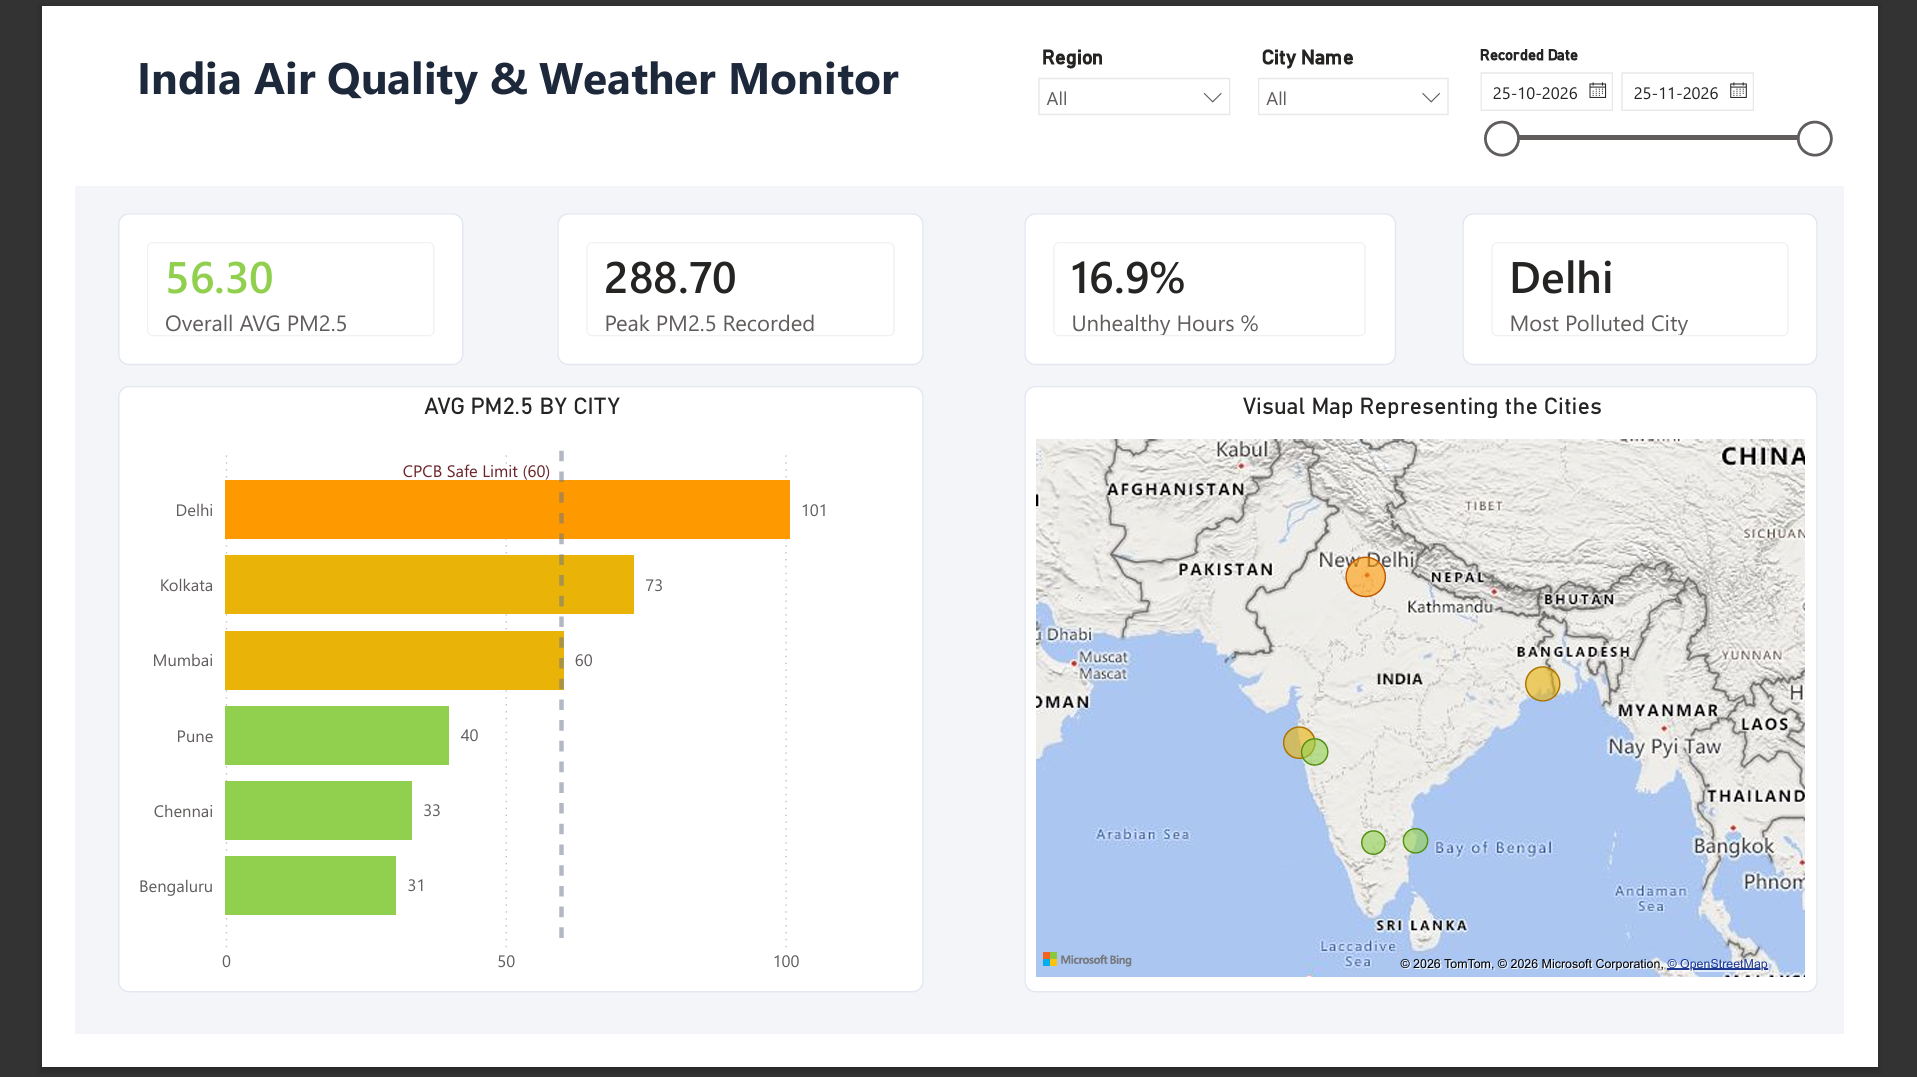

This screenshot's page, from the dashboard's own definition file:
{"tool":"powerbi","page":{"name":"Executive Overview","canvas":[1280,720],"ordinal":0},"visuals":[{"type":"textbox","box":[0,0,1280,105.7],"z":0},{"type":"slicer","fields":{"Values":["dim_city.region"]},"box":[687.1,0,158.6,105.7],"z":1000},{"type":"slicer","fields":{"Values":["dim_city.city_name"]},"box":[845.7,0,158.6,105.7],"z":2000},{"type":"slicer","title":"sss","fields":{"Values":["vw_daily_city_aqi.recorded_date"]},"box":[1004.3,0,275.7,105.7],"z":3000},{"type":"cardVisual","fields":{"Data":["_Measures.Overall AVG PM2.5"]},"box":[31.4,125.7,250,110],"z":4000},{"type":"cardVisual","fields":{"Data":["_Measures.Peak PM2.5 Recorded"]},"box":[348.6,125.7,265.7,110],"z":5000},{"type":"cardVisual","fields":{"Data":["_Measures.Unhealthy Hours %"]},"box":[687.1,125.7,268.6,110],"z":6000},{"type":"cardVisual","fields":{"Data":["_Measures.Most Polluted City"]},"box":[1004.3,125.7,257.1,110],"z":7000},{"type":"clusteredBarChart","title":"AVG PM2.5 BY CITY","fields":{"Category":["dim_city.city_name"],"Y":["_Measures.Overall AVG PM2.5"]},"box":[31.4,251.4,582.9,438.6],"z":8000},{"type":"map","title":"Visual Map Representing the Cities","fields":{"Y":["dim_city.latitude"],"X":["dim_city.longitude"],"Size":["_Measures.Overall AVG PM2.5"]},"box":[687.1,251.4,574.3,438.6],"z":9000}]}

Visuals, with their boxes in screenshot pixels (x1, y1, x2, y2), scaled from the page's 1280x720 canvas onto the 1917x1077 screenshot:
textbox: detection(0, 0, 1916, 158)
slicer - dim_city.region: detection(1029, 0, 1267, 158)
slicer - dim_city.city_name: detection(1267, 0, 1504, 158)
"sss" slicer: detection(1504, 0, 1916, 158)
cardVisual - _Measures.Overall AVG PM2.5: detection(47, 188, 421, 353)
cardVisual - _Measures.Peak PM2.5 Recorded: detection(522, 188, 920, 353)
cardVisual - _Measures.Unhealthy Hours %: detection(1029, 188, 1431, 353)
cardVisual - _Measures.Most Polluted City: detection(1504, 188, 1889, 353)
"AVG PM2.5 BY CITY" clusteredBarChart: detection(47, 376, 920, 1032)
"Visual Map Representing the Cities" map: detection(1029, 376, 1889, 1032)
